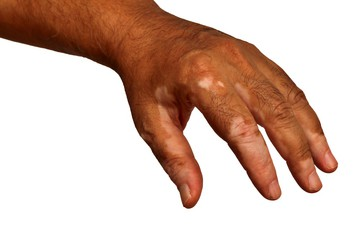vitiligo: (137, 54, 326, 191)
